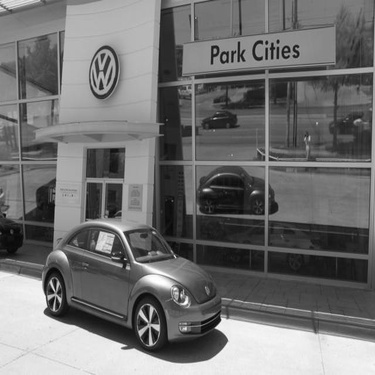car: (32, 206, 235, 354), (190, 156, 279, 224), (302, 106, 369, 139), (182, 100, 242, 134), (1, 208, 30, 260)
